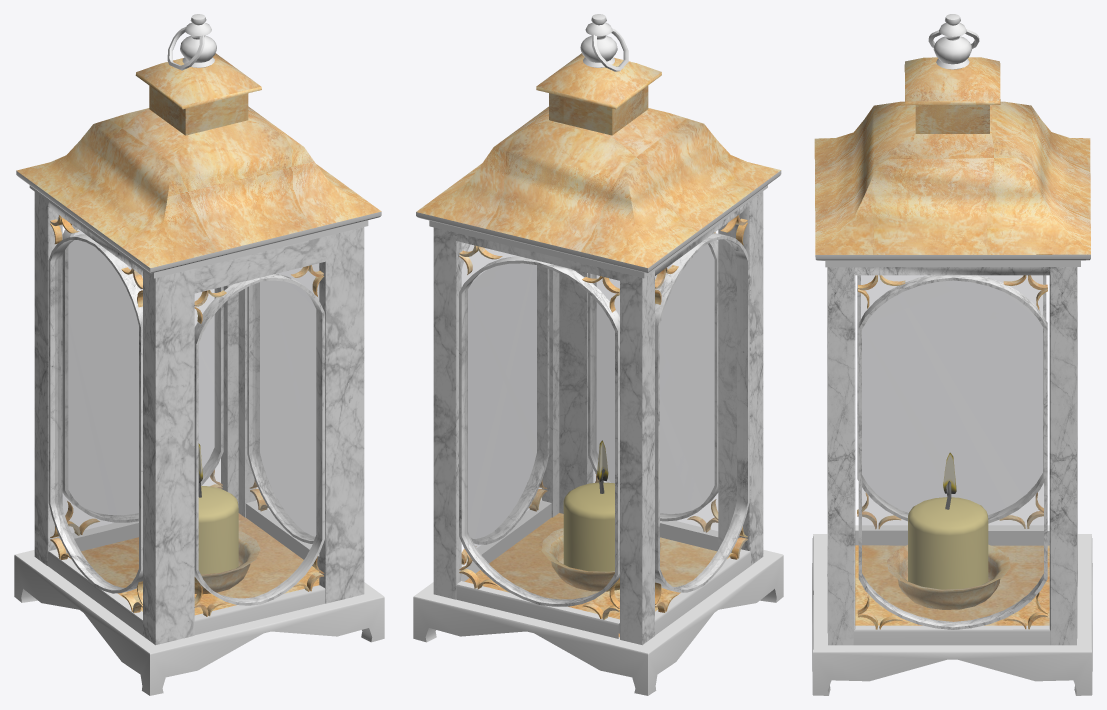
File: EnfeiteChao.glb
The picture shows the model from 3 angles, left to right: view 1: azimuth 30°, elevation 25°; view 2: azimuth 150°, elevation 25°; view 3: azimuth 270°, elevation 25°; orthographic projection. The views are drawn at different scales.
Parts seen in each view (by area): view 1: Objeto, Vidro.001, Vela, Vaso; view 2: Objeto, Vidro.001, Vela, Vaso; view 3: Objeto, Vidro.001, Vela, Vaso, Fogo.
Part boxes in pixels (bbox=[...]): Objeto: bbox=[14, 14, 384, 695]; Vidro.001: bbox=[55, 229, 319, 600]; Vela: bbox=[198, 486, 238, 574]; Vaso: bbox=[194, 531, 260, 594]; Objeto: bbox=[413, 14, 783, 695]; Vidro.001: bbox=[462, 239, 742, 601]; Vela: bbox=[563, 482, 614, 571]; Vaso: bbox=[541, 528, 661, 591]; Objeto: bbox=[812, 14, 1092, 695]; Vidro.001: bbox=[861, 275, 1043, 624]; Vela: bbox=[908, 497, 988, 589]; Vaso: bbox=[887, 545, 1010, 609]; Fogo: bbox=[943, 452, 956, 509].
Size of the model in its own units: 0.1986 by 0.4856 by 0.1986.
7 materials, 3 textured.
